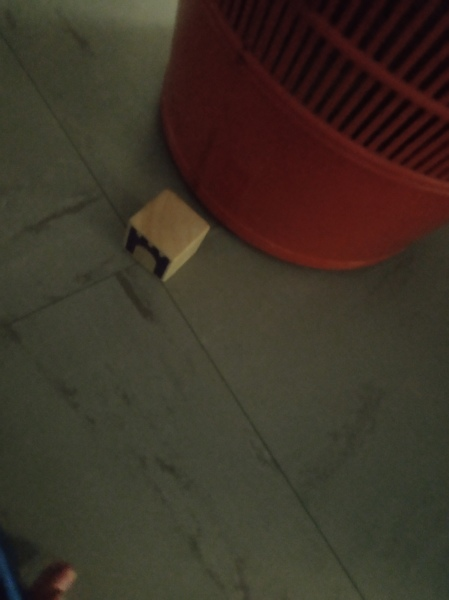violet: (128, 200, 210, 281)
